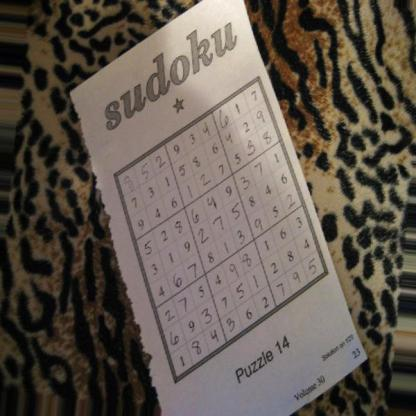sudoku: (63, 73, 362, 390)
